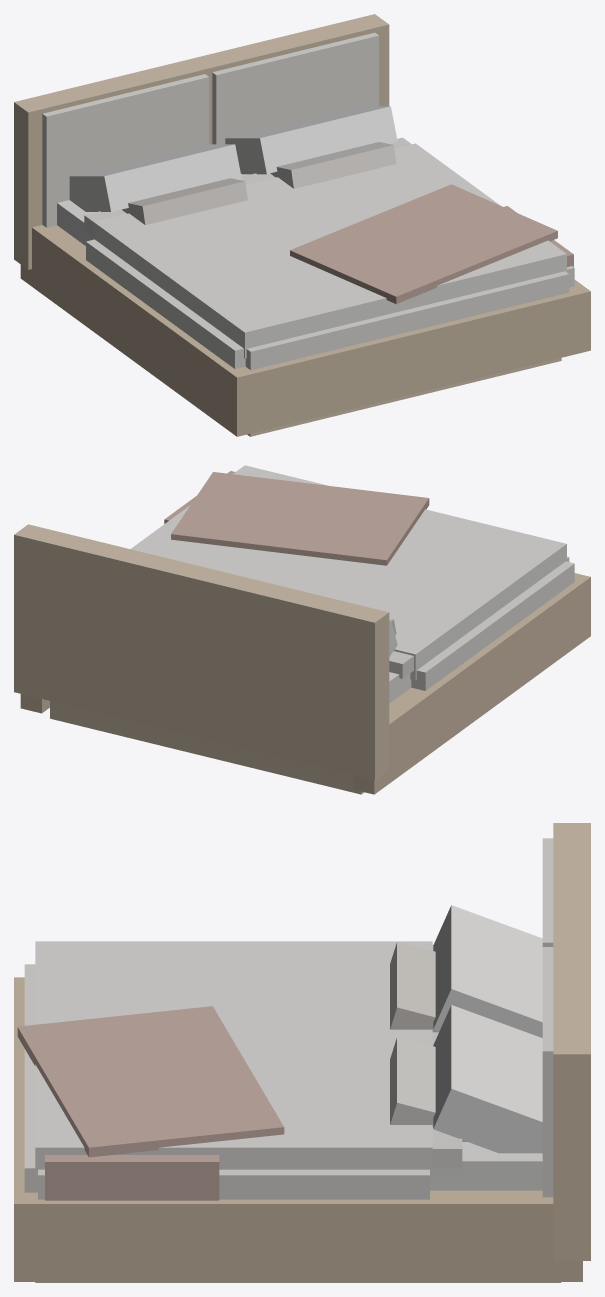
File: double_bed_photoreal.glb
3 views of the same model, one above another, from view 1: azimuth 30°, elevation 25°; view 2: azimuth 150°, elevation 25°; view 3: azimuth 270°, elevation 25° (orthographic). The views are drawn at different scales.
Visible parts, largest first — view 1: geometry_8, geometry_3, geometry_17, geometry_1, geometry_5, geometry_4, geometry_6, geometry_12, geometry_13, geometry_14, geometry_10, geometry_16 (+5 smaller); view 2: geometry_4, geometry_8, geometry_17, geometry_1, geometry_0, geometry_10, geometry_3, geometry_9, geometry_7; view 3: geometry_8, geometry_2, geometry_17, geometry_4, geometry_14, geometry_13, geometry_18, geometry_11, geometry_7, geometry_3, geometry_15, geometry_16 (+4 smaller).
Part boxes in pixels (bbox=[...]): geometry_8: bbox=[93, 143, 566, 358]; geometry_3: bbox=[225, 285, 590, 436]; geometry_17: bbox=[290, 184, 557, 304]; geometry_1: bbox=[20, 225, 258, 436]; geometry_5: bbox=[42, 74, 209, 227]; geometry_4: bbox=[14, 14, 389, 269]; geometry_6: bbox=[212, 32, 378, 144]; geometry_12: bbox=[245, 271, 569, 370]; geometry_13: bbox=[69, 144, 241, 211]; geometry_14: bbox=[225, 106, 397, 174]; geometry_10: bbox=[86, 239, 245, 368]; geometry_16: bbox=[270, 142, 396, 188]; geometry_4: bbox=[14, 524, 389, 779]; geometry_8: bbox=[130, 465, 566, 680]; geometry_17: bbox=[171, 472, 429, 565]; geometry_1: bbox=[353, 573, 590, 794]; geometry_0: bbox=[50, 701, 363, 794]; geometry_10: bbox=[411, 561, 574, 690]; geometry_3: bbox=[572, 573, 590, 644]; geometry_9: bbox=[389, 651, 413, 678]; geometry_7: bbox=[389, 672, 411, 703]; geometry_8: bbox=[35, 941, 432, 1181]; geometry_2: bbox=[14, 1190, 582, 1281]; geometry_17: bbox=[17, 1006, 284, 1157]; geometry_4: bbox=[553, 823, 590, 1260]; geometry_14: bbox=[433, 1005, 542, 1153]; geometry_13: bbox=[433, 905, 542, 1037]; geometry_18: bbox=[45, 1155, 219, 1200]; geometry_11: bbox=[38, 1169, 429, 1199]; geometry_7: bbox=[430, 1142, 542, 1190]; geometry_3: bbox=[14, 978, 46, 1281]; geometry_15: bbox=[390, 941, 438, 1032]; geometry_16: bbox=[390, 1037, 466, 1141].
Size of the model in its own units: 2.04 by 1 by 2.15.
